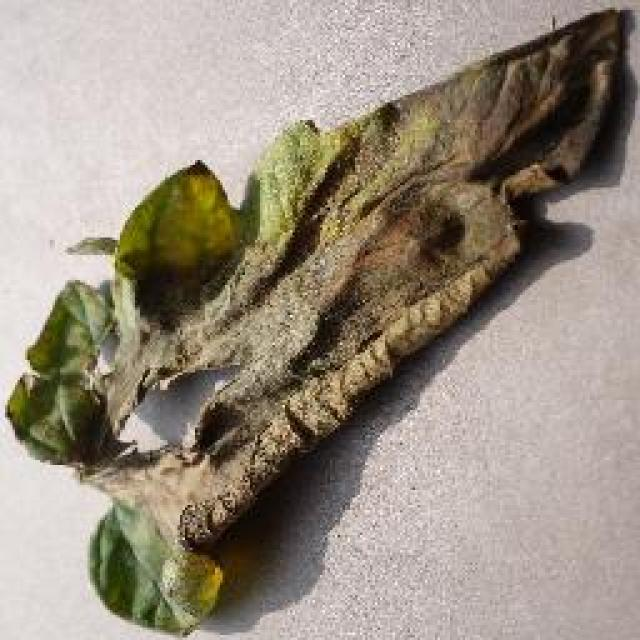Tomato Late Blight: (143, 68, 547, 565)
